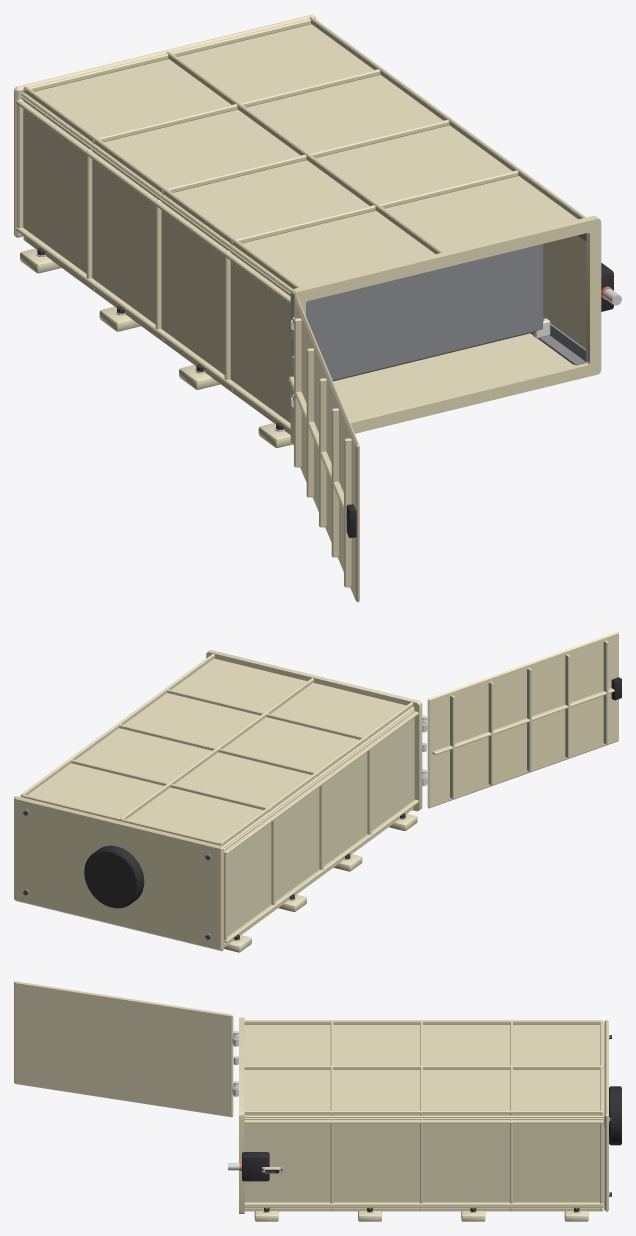
Rendered from deployer_6u_open.glb.
The picture shows the model from 3 angles, top to bottom: view 1: azimuth 30°, elevation 25°; view 2: azimuth 150°, elevation 25°; view 3: azimuth 270°, elevation 25°; orthographic projection. The views are drawn at different scales.
Parts seen in each view (by area): view 1: wall (×4), pusher_plate, deployer_6u_open, door; view 2: wall (×3), deployer_6u_open, door; view 3: wall (×3), door, deployer_6u_open.
Boxes of the visible parts, x1,y1,x2,y2 form: wall (×4): (16, 16, 586, 434); pusher_plate: (306, 243, 550, 381); deployer_6u_open: (14, 14, 621, 447); door: (288, 296, 359, 602); wall (×3): (20, 654, 418, 947); deployer_6u_open: (14, 650, 426, 952); door: (421, 631, 621, 808); wall (×3): (244, 1020, 603, 1211); door: (14, 981, 238, 1117); deployer_6u_open: (228, 1017, 621, 1221).
Size of the model in its own units: 0.3632 by 0.1285 by 0.659.
